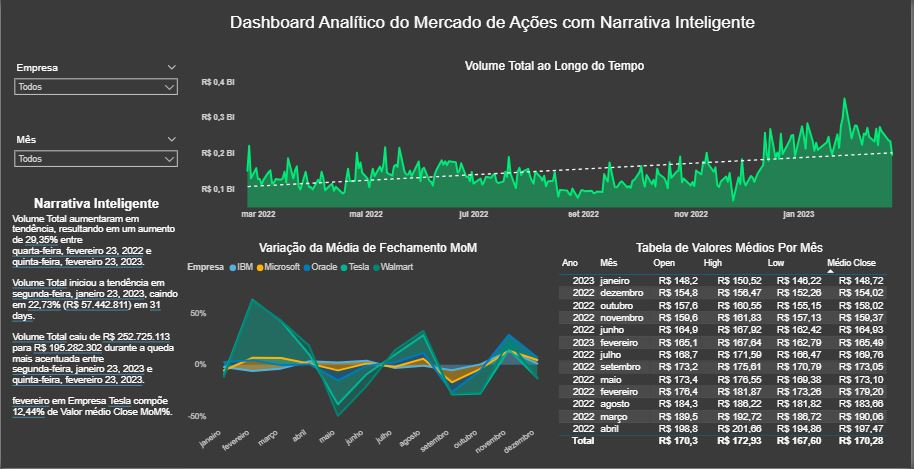

This screenshot's page, from the dashboard's own definition file:
{"tool":"powerbi","page":{"name":"Página 1","canvas":[1400,720],"ordinal":0},"visuals":[{"type":"areaChart","title":"Volume Total ao Longo do Tempo","fields":{"Category":["Fato_StockMarket.Data.Variation.Hierarquia de datas.Ano","Fato_StockMarket.Data.Variation.Hierarquia de datas.Trimestre","Fato_StockMarket.Data.Variation.Hierarquia de datas.Mês","Fato_StockMarket.Data.Variation.Hierarquia de datas.Dia"],"Y":["Sum(Fato_StockMarket.Volume)"]},"box":[303.1,90.8,1096.9,255.4],"z":0},{"type":"tableEx","title":"Tabela de Valores Médios Por Mês","fields":{"Values":["Fato_StockMarket.Data.Variation.Hierarquia de datas.Ano","Fato_StockMarket.Data.Variation.Hierarquia de datas.Mês","Medidas.Valor médio Open","Medidas.Valor médio High","Medidas.Valor médio Low","Medidas.Valor médio Close"]},"box":[852.3,370.8,536.9,338.5],"z":1000},{"type":"slicer","fields":{"Values":["Dim_Empresa.Empresa"]},"box":[10.8,90.8,270.8,89.2],"z":2000},{"type":"slicer","fields":{"Values":["Fato_StockMarket.Data.Variation.Hierarquia de datas.Mês"]},"box":[10.8,201.5,270.8,70.8],"z":3000},{"type":"stackedAreaChart","title":"Variação da Média de Fechamento MoM","fields":{"Category":["Fato_StockMarket.Data.Variation.Hierarquia de datas.Mês"],"Series":["Dim_Empresa.Empresa"],"Y":["Dim_Empresa.Valor médio Close MoM%"]},"box":[281.5,370.8,566.2,349.2],"z":4000},{"type":"textbox","title":"Narrativa Inteligente","box":[12.3,301.5,269.2,418.5],"z":5000},{"type":"textbox","box":[247.7,13.8,1024.6,61.5],"z":6000}]}

Visuals, with their boxes in screenshot pixels (x1, y1, x2, y2), scaled from the page's 1400x720 canvas onto the 914x469 screenshot:
"Volume Total ao Longo do Tempo" areaChart: bbox=(198, 59, 913, 226)
"Tabela de Valores Médios Por Mês" tableEx: bbox=(556, 242, 907, 462)
slicer - Dim_Empresa.Empresa: bbox=(7, 59, 184, 117)
slicer - Fato_StockMarket.Data.Variation.Hierarquia de datas.Mês: bbox=(7, 131, 184, 177)
"Variação da Média de Fechamento MoM" stackedAreaChart: bbox=(184, 242, 553, 468)
"Narrativa Inteligente" textbox: bbox=(8, 196, 184, 468)
textbox: bbox=(162, 9, 831, 49)
